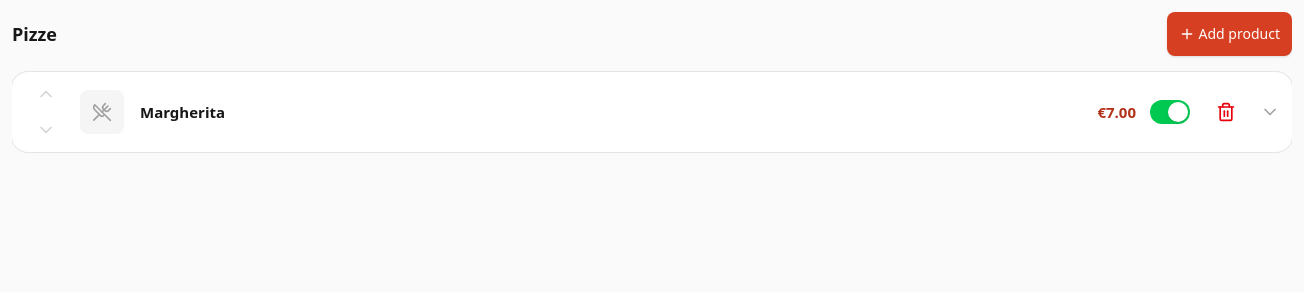
ProductList › toggles the expansion of a row
expect the text "No details yet." is not shown: met
Click the button "Margherita" at x=183, y=112, box [136,90,1085,134]
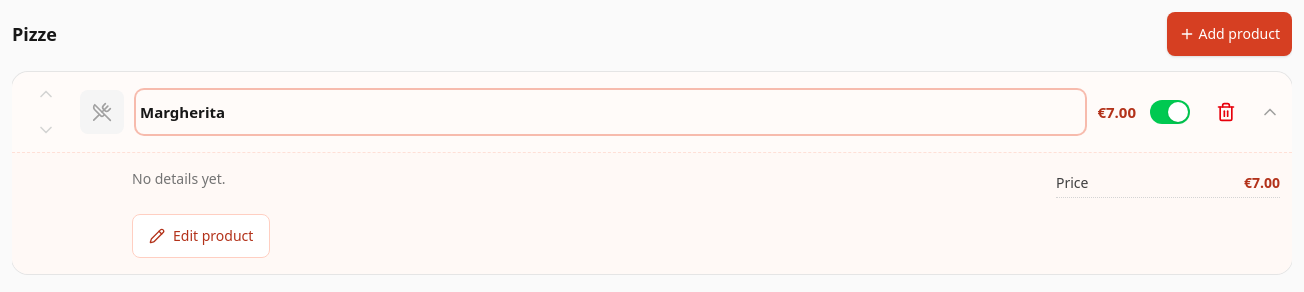
expect the text "No details yet." is shown: met, box [132,169,226,188]
expect the text "Price" is shown: met, box [1056,173,1088,193]
Click the button "Margherita" at x=183, y=112, box [136,90,1085,134]
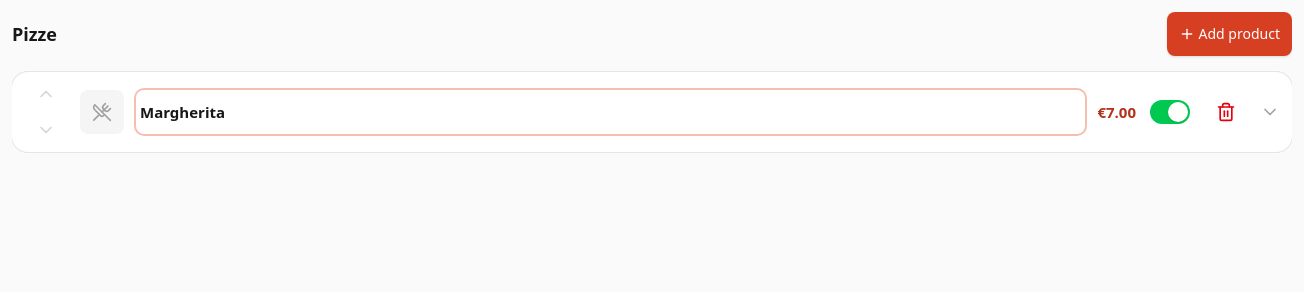
expect the text "No details yet." is gone: met
